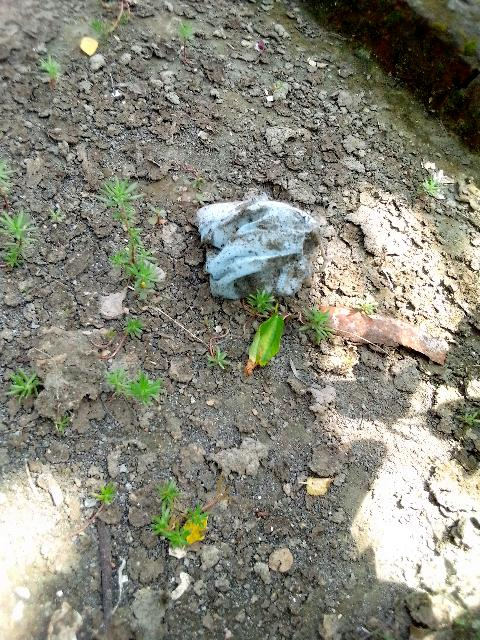mask: (213, 181, 307, 291)
